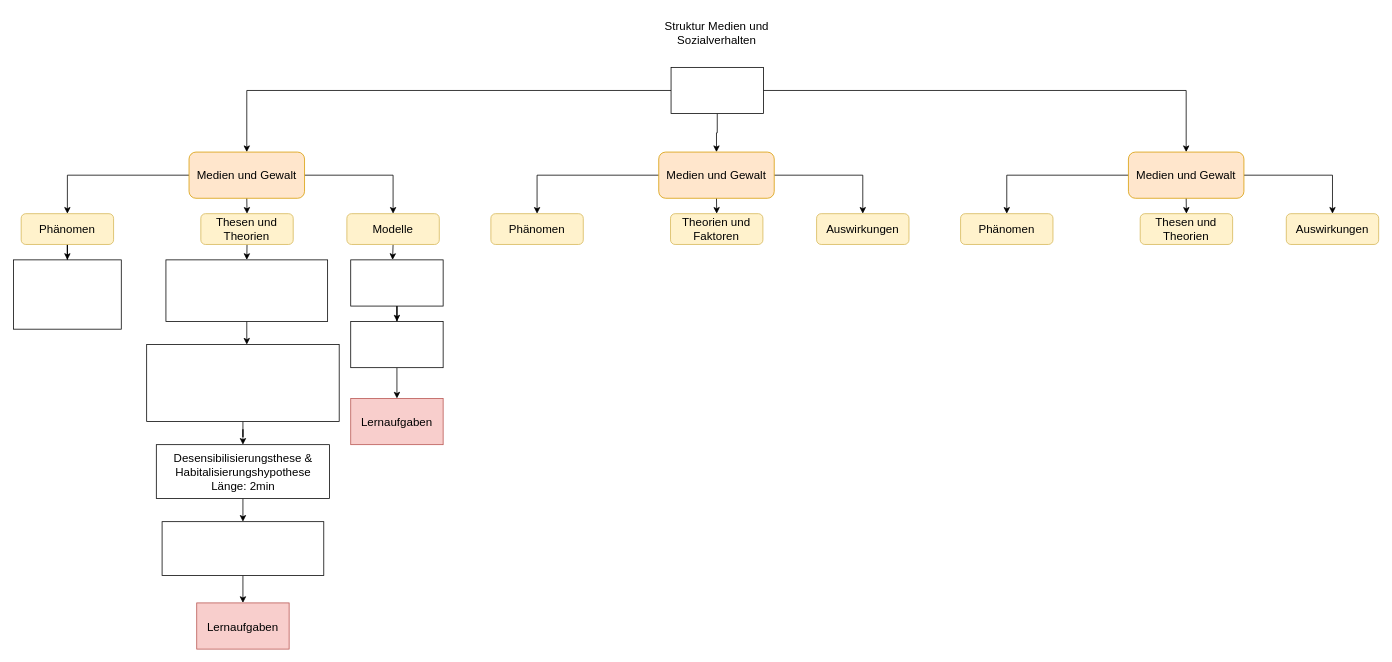
The diagram is 1392 pixels wide and 662 high, and some of its shapes have lost their labels. Here are the shapes that lost their labels. From the top down, the box of each, then its label:
(670, 67, 763, 114): Einführung Länge: 2min
(13, 259, 121, 329): Definition und Beleuchtung des Themas Länge: 2min
(165, 259, 328, 321): Katharsis- und Inhibitionsthese Länge: 2min
(350, 259, 443, 306): General Agression Modell Länge: 1:30min
(350, 321, 443, 368): Katalysator Modell Länge: 1:30min
(146, 344, 339, 422): Kultivierungshypothese & Sozialkognitive Lerntheorie Länge: 2min
(161, 521, 324, 576): Frustrations- und Aggressionshypothese Länge: 2min
